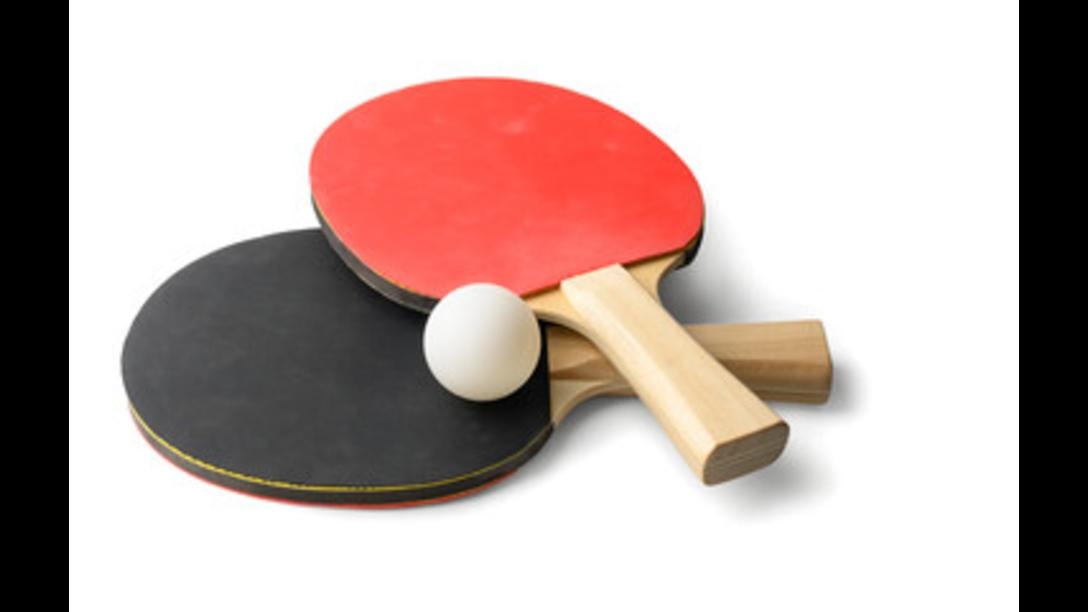Table-Tennis-Ball: (425, 284, 539, 400)
